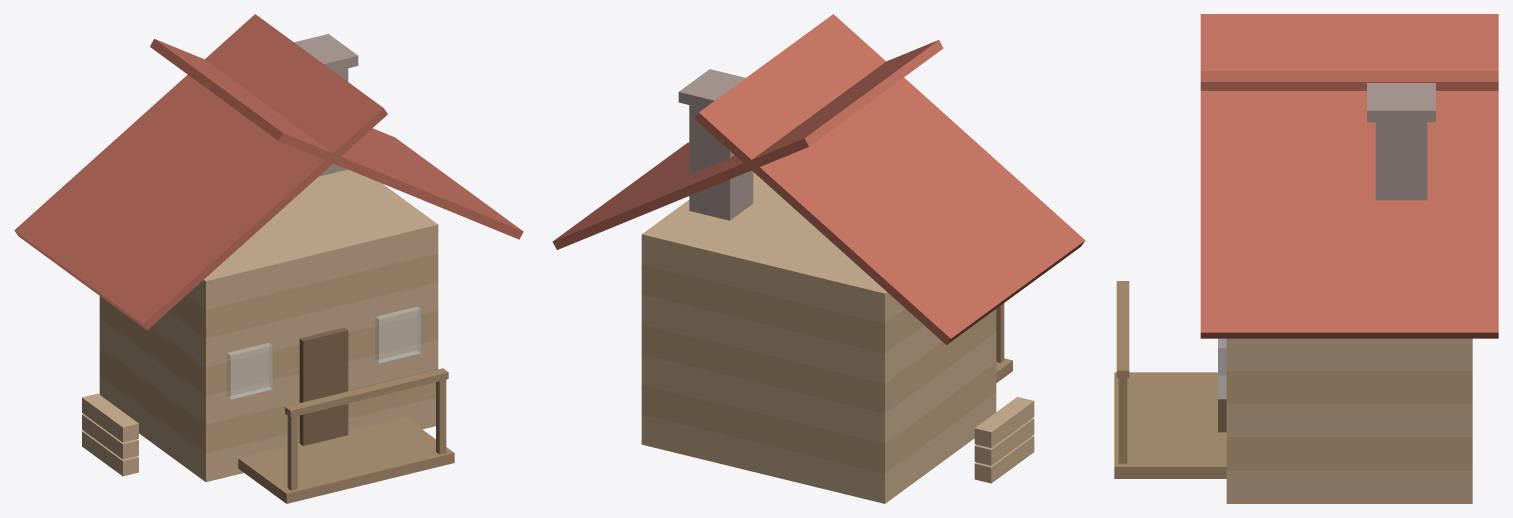
File: cabin.glb
3 views of the same model, side by side, from view 1: azimuth 30°, elevation 25°; view 2: azimuth 150°, elevation 25°; view 3: azimuth 270°, elevation 25° (orthographic). The views are drawn at different scales.
Visible parts, largest first — view 1: cabin; view 2: cabin; view 3: cabin.
Boxes of the visible parts, <box> form: cabin: <box>14,14,523,503</box>; cabin: <box>552,14,1085,503</box>; cabin: <box>1114,14,1498,503</box>.
Bounding box in the file's own units: 11.8 × 10.11 × 8.9.
